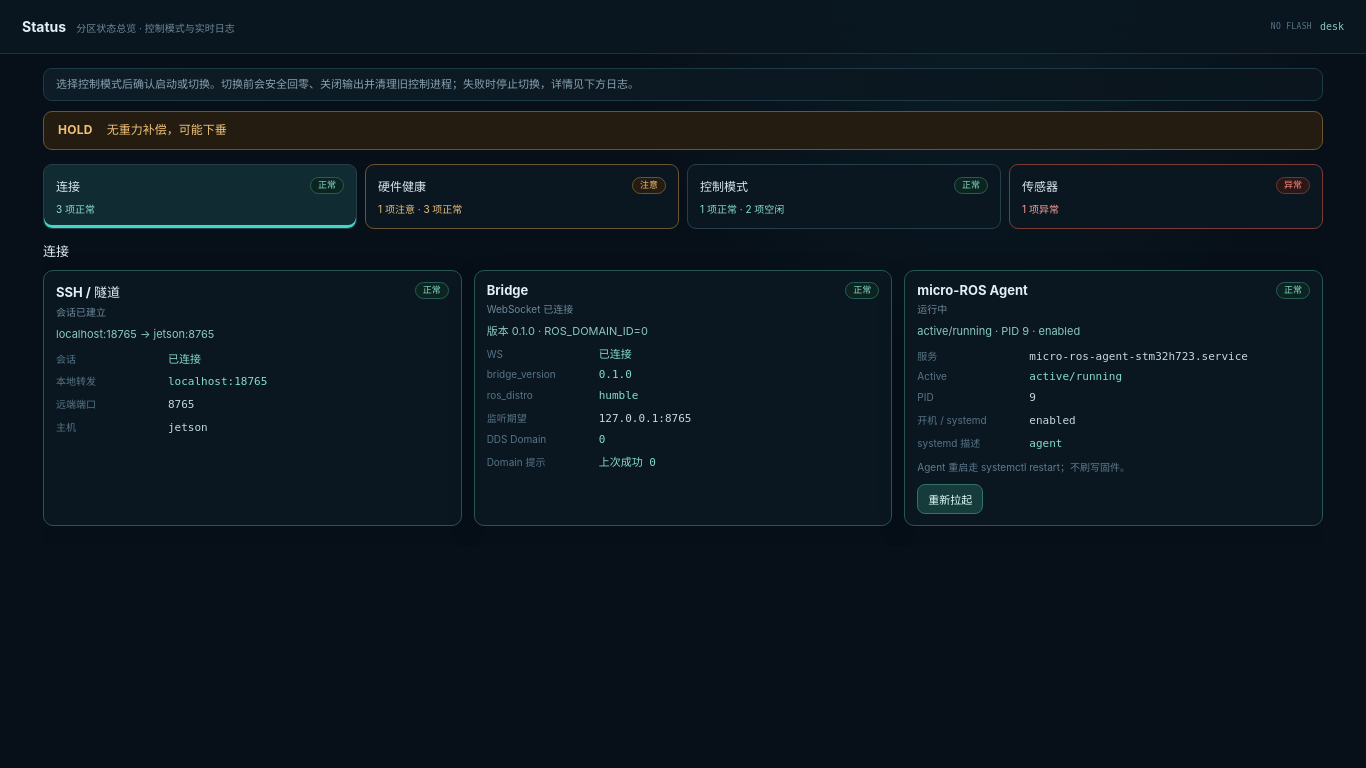
StatusPage › prefers list_controllers over teleopRunning for strip selection after switch_controllers
Click the tab "控制模式" at [724, 187], box [687, 164, 1001, 229]
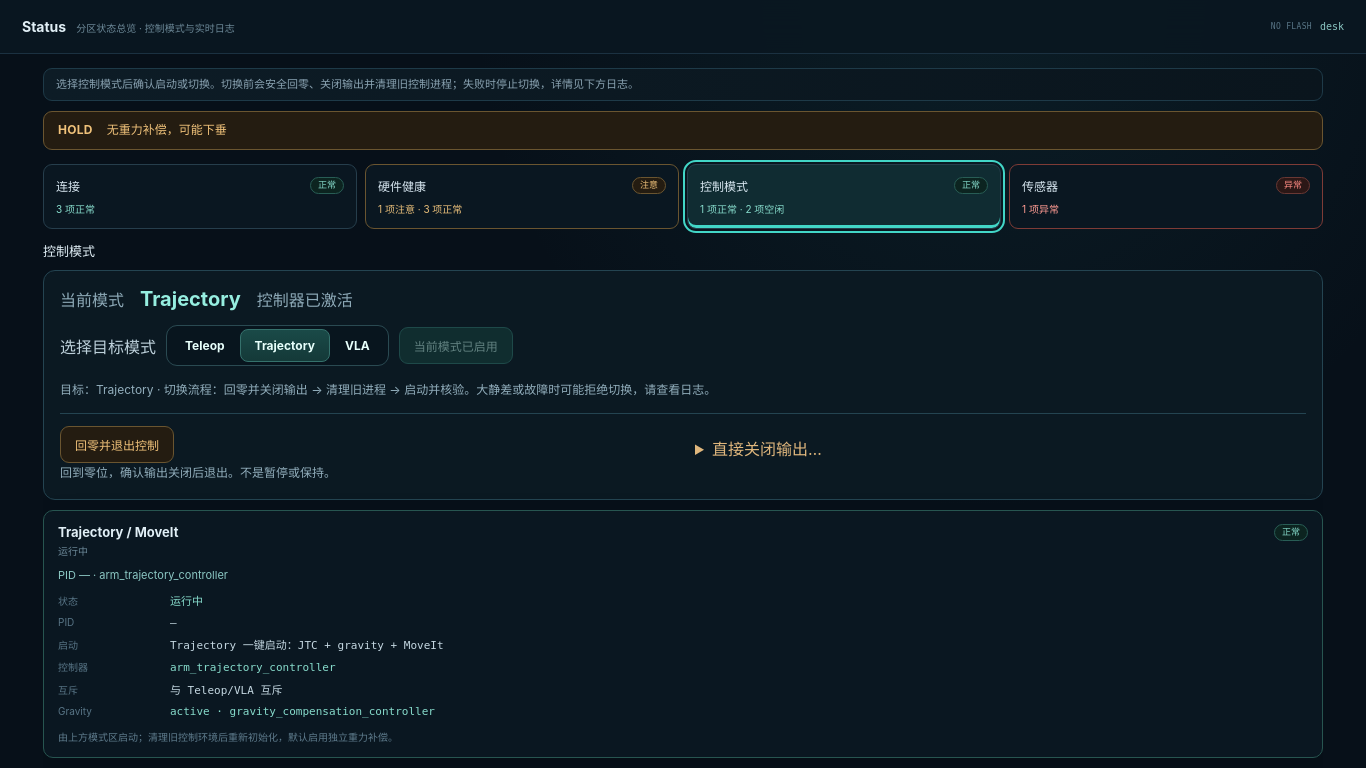
Result: the element labelled "Trajectory / MoveIt" is shown at [43, 510, 1323, 758]
Result: the text "arm_trajectory_controller" is shown at [170, 662, 336, 674]
